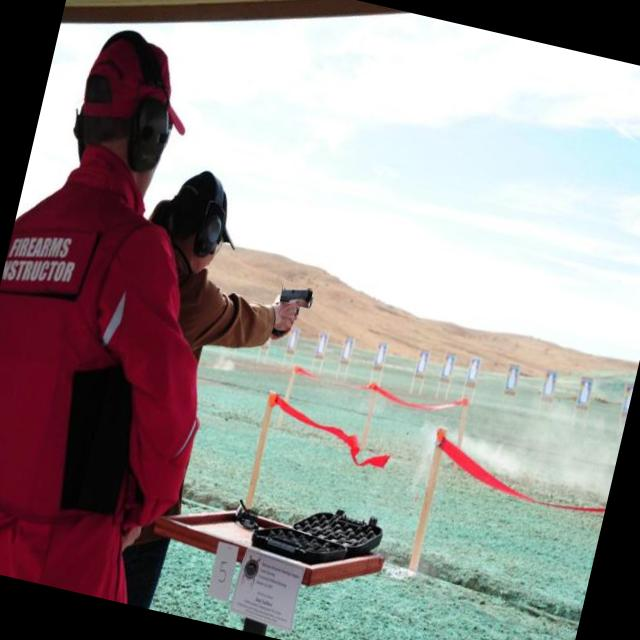Gun: (279, 288, 312, 303)
